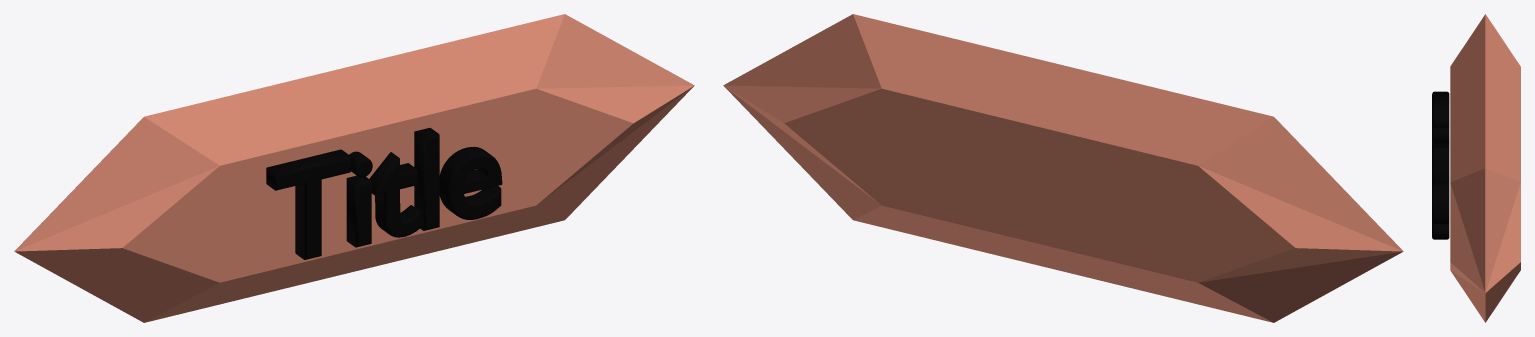
Rendered from Title.obj.
3 views of the same model, side by side, from view 1: azimuth 30°, elevation 25°; view 2: azimuth 150°, elevation 25°; view 3: azimuth 270°, elevation 25° (orthographic). The views are drawn at different scales.
Visible parts, largest first — view 1: 立方体, テキスト; view 2: 立方体; view 3: 立方体, テキスト.
Part boxes in pixels (left/top/right/bottom): 立方体: left=14, top=14, right=694, bottom=322; テキスト: left=266, top=128, right=502, bottom=259; 立方体: left=723, top=14, right=1403, bottom=322; 立方体: left=1450, top=14, right=1520, bottom=322; テキスト: left=1432, top=91, right=1449, bottom=239.
Size of the model in its own units: 2.07 by 0.6 by 0.3117.
Materials: 1 (1 with a texture image).
